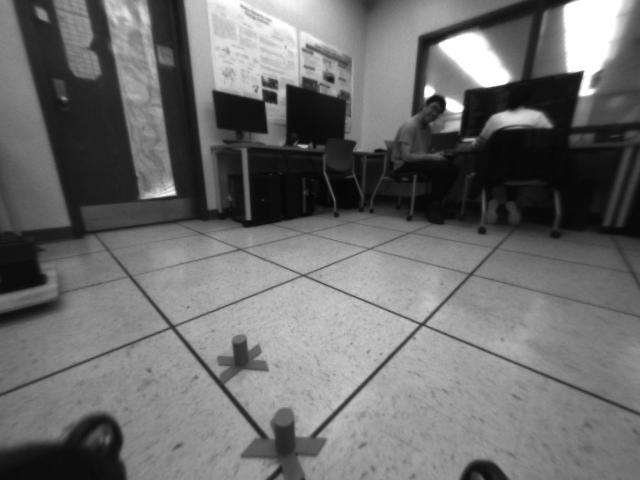X: (240, 406, 328, 480), (217, 333, 268, 383)
